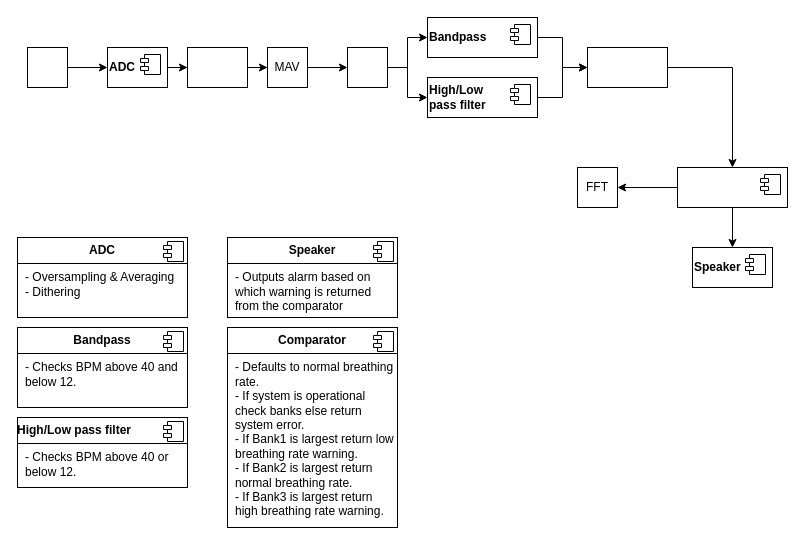
Image size: 805x545. Some labels were removed from this diagram. Each missing label, with the box of its shape:
Comparator: (676, 166, 788, 208)
Equalizer: (186, 46, 248, 88)
Filter Banks: (346, 46, 388, 88)
LM61: (26, 46, 68, 88)
Store Samples: (586, 46, 668, 88)
